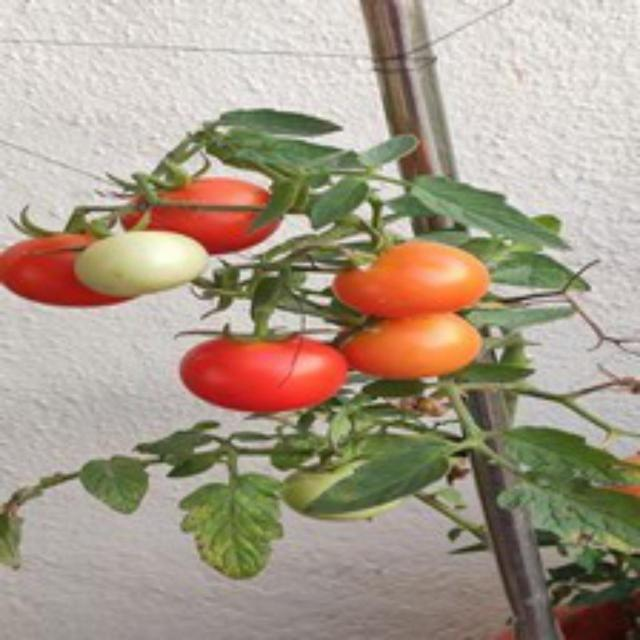tomato: (180, 312, 337, 422), (336, 236, 492, 326), (135, 167, 276, 261)
